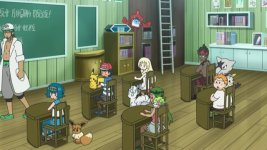pikachu: (84, 68, 108, 92)
